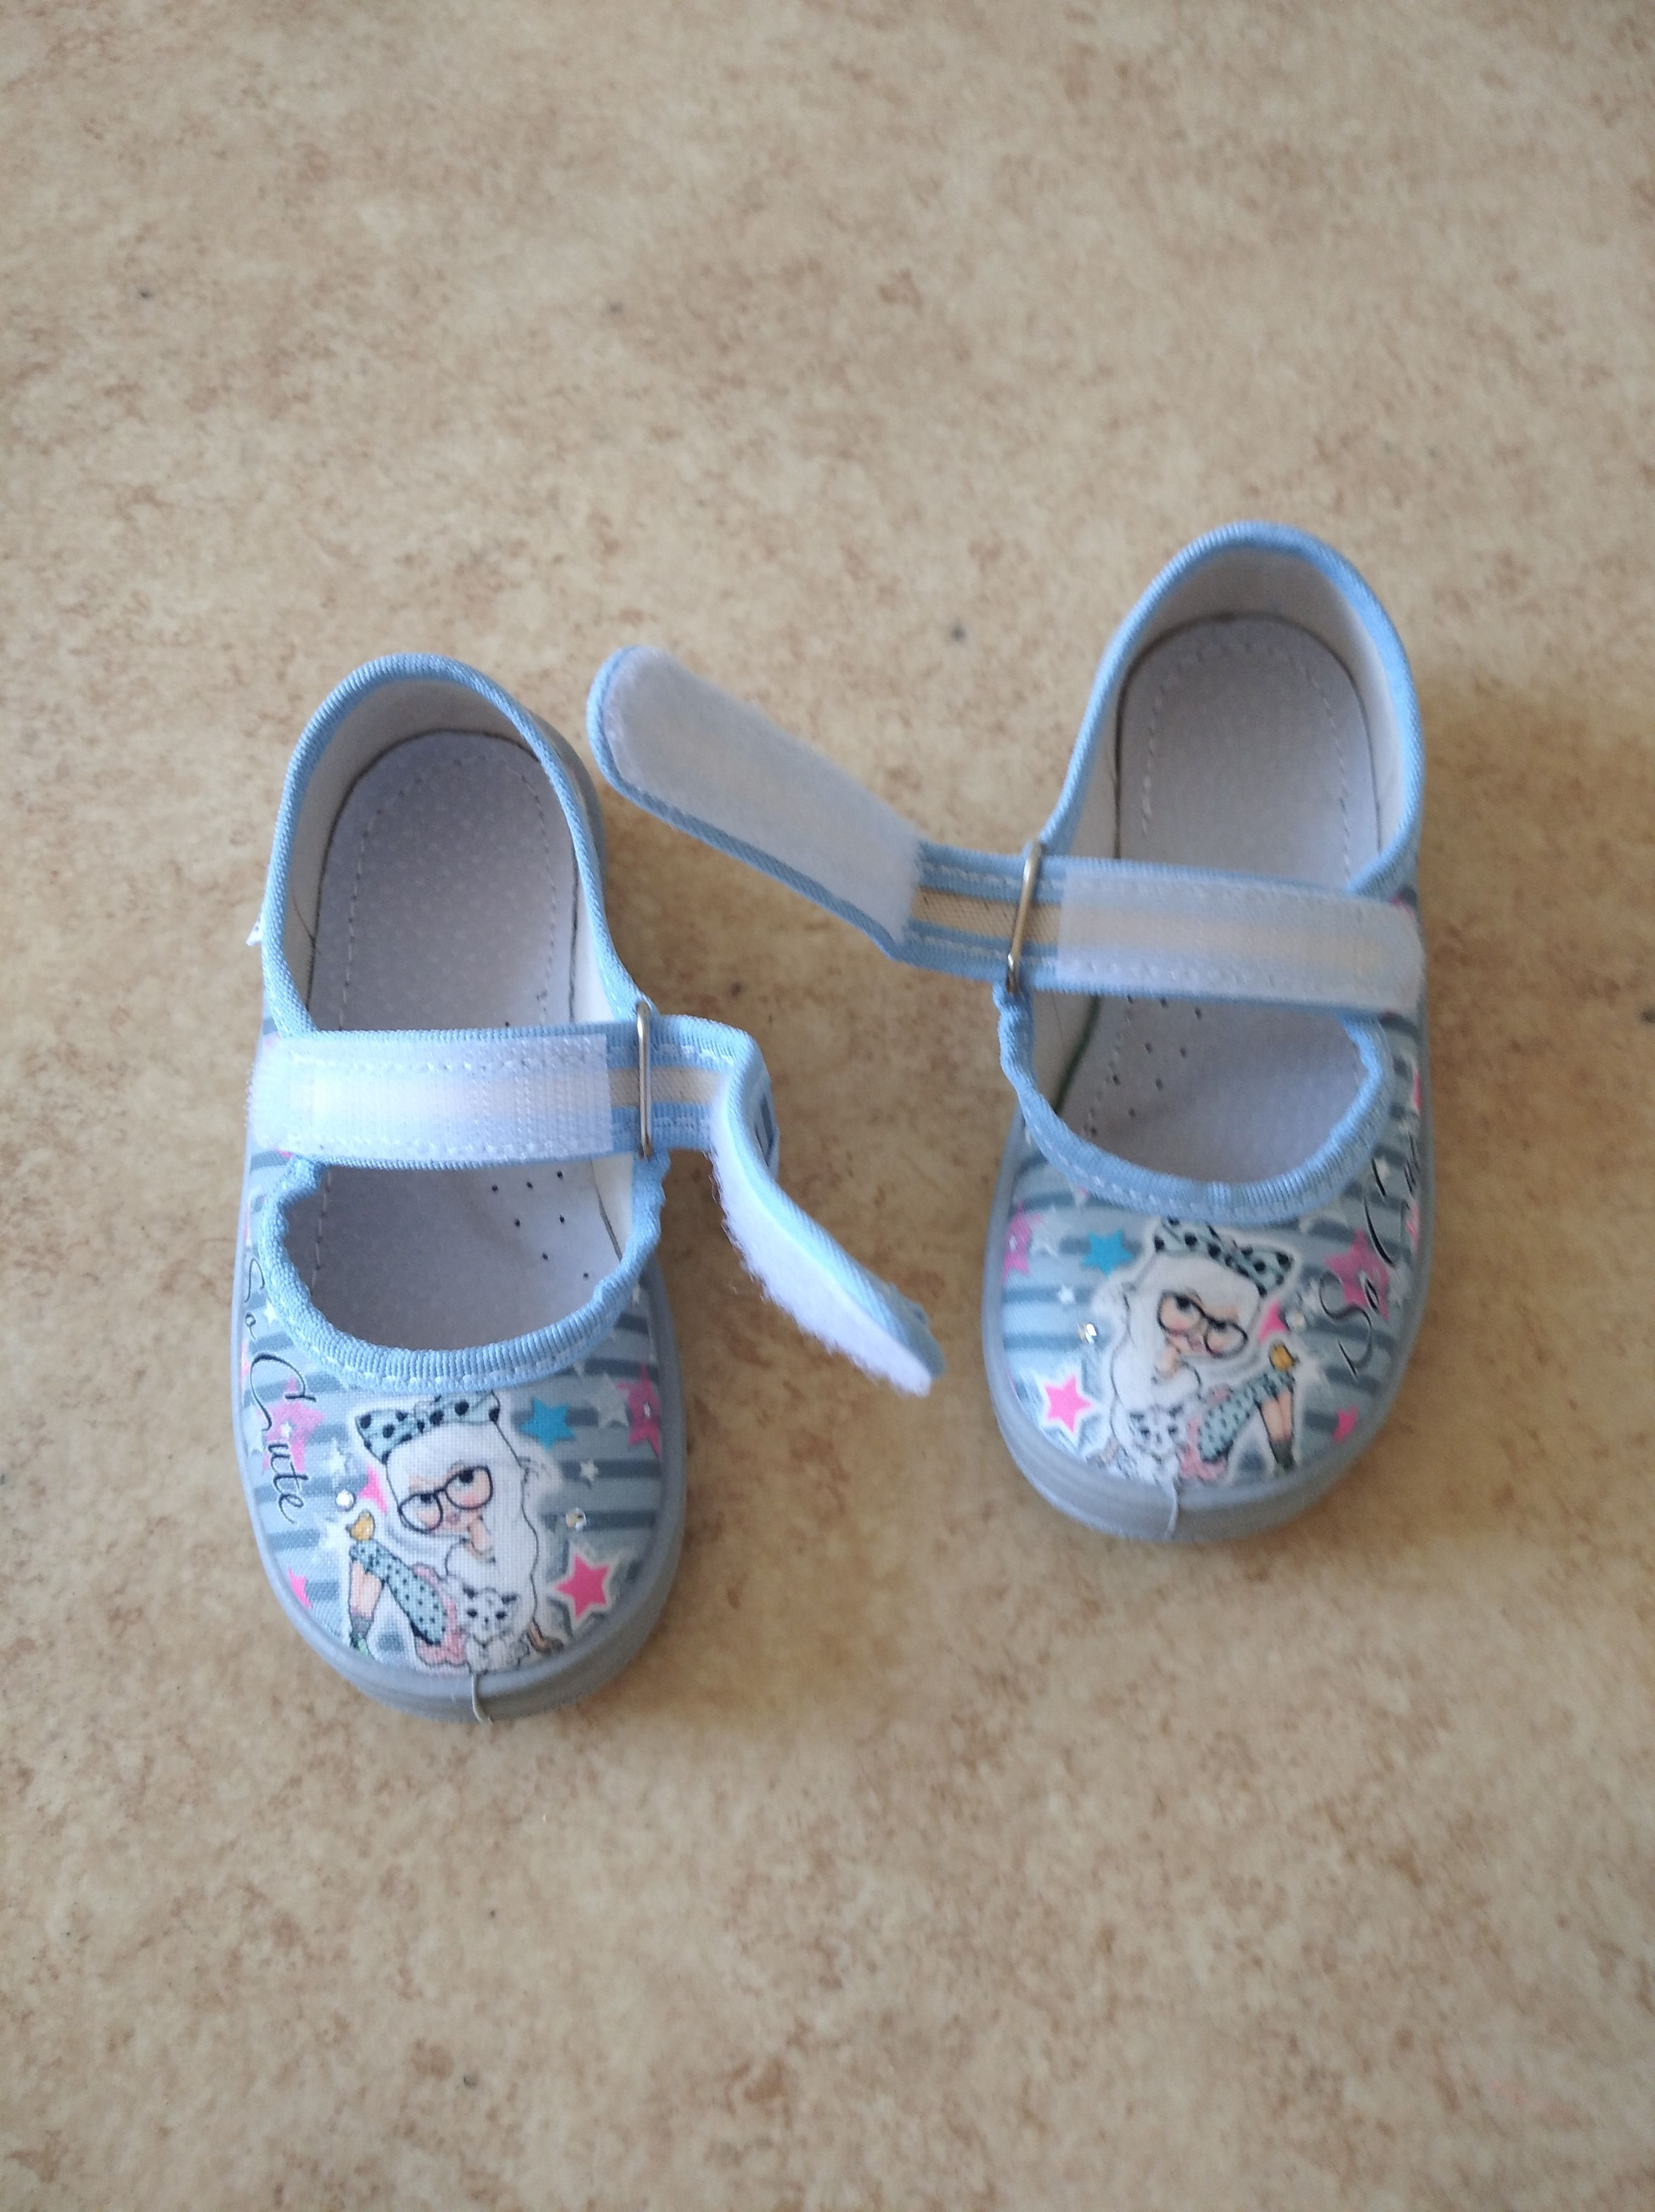clothes: (810, 516, 1490, 1571), (209, 603, 758, 1692)
